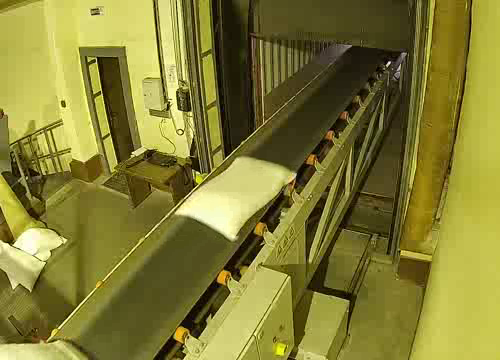bag: (173, 150, 302, 246), (0, 333, 98, 360)
